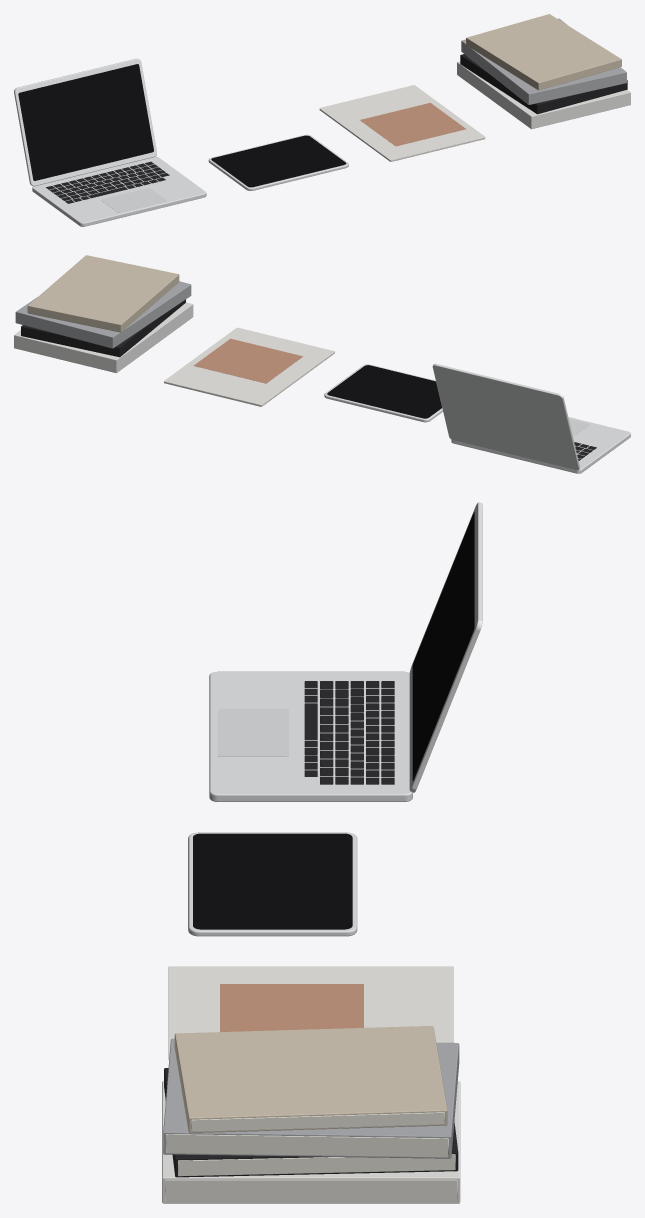
File: office-Desk-Accessories.glb
The picture shows the model from 3 angles, top to bottom: view 1: azimuth 30°, elevation 25°; view 2: azimuth 150°, elevation 25°; view 3: azimuth 270°, elevation 25°; orthographic projection. The views are drawn at different scales.
Visible parts, largest first — view 1: Books, Laptop_Lid, Magazine, Laptop_Base, Tablet, Laptop_Keys, Laptop_Trackpad; view 2: Books, Laptop_Lid, Magazine, Tablet, Laptop_Base; view 3: Books, Magazine, Tablet, Laptop_Base, Laptop_Lid, Laptop_Keys, Laptop_Trackpad.
Boxes of the visible parts, bbox=[...] form: Books: bbox=[457, 14, 630, 129]; Laptop_Lid: bbox=[14, 58, 156, 186]; Magazine: bbox=[319, 85, 485, 161]; Laptop_Base: bbox=[32, 156, 206, 226]; Tablet: bbox=[208, 134, 348, 190]; Laptop_Keys: bbox=[46, 161, 169, 203]; Laptop_Trackpad: bbox=[101, 188, 166, 212]; Books: bbox=[14, 255, 193, 373]; Laptop_Lid: bbox=[432, 363, 579, 470]; Magazine: bbox=[164, 327, 334, 406]; Tablet: bbox=[324, 364, 442, 422]; Laptop_Base: bbox=[451, 417, 630, 473]; Books: bbox=[162, 1026, 460, 1203]; Magazine: bbox=[168, 966, 453, 1060]; Tablet: bbox=[188, 832, 357, 936]; Laptop_Base: bbox=[209, 671, 412, 801]; Laptop_Lid: bbox=[409, 502, 482, 792]; Laptop_Keys: bbox=[304, 681, 394, 784]; Laptop_Trackpad: bbox=[218, 708, 288, 756].
Bounding box in the file's own units: 1.29 × 0.2061 × 0.3335.
